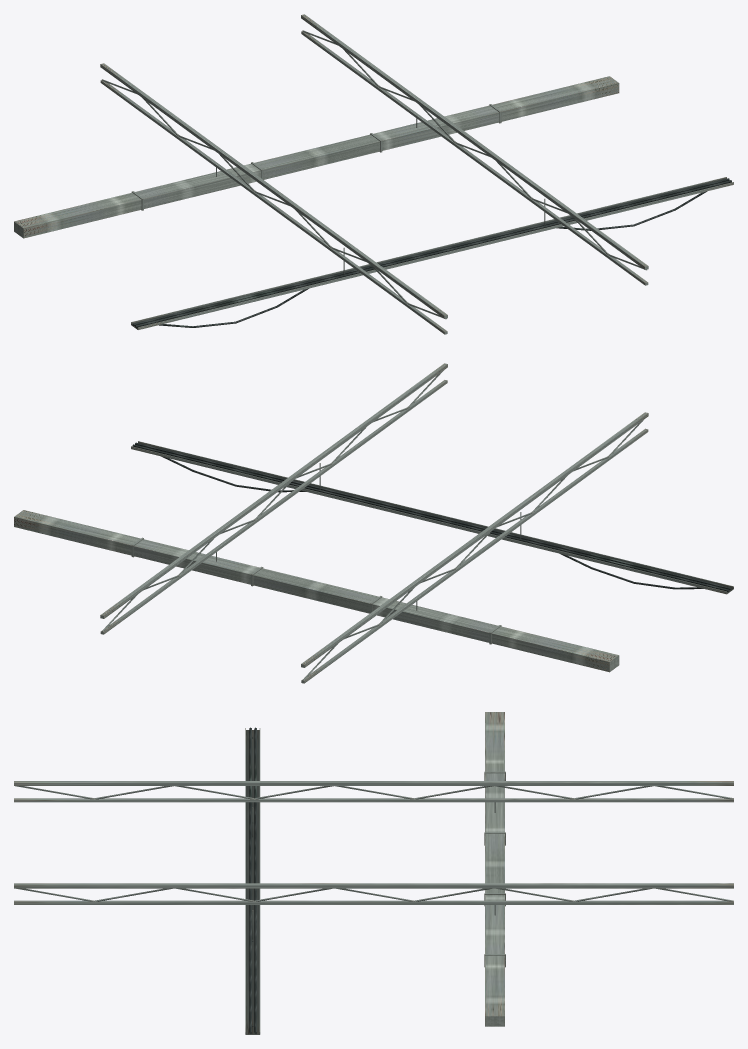
The model's file is ceiling_generator_hall.glb.
3 renders of one model, top to bottom at view 1: azimuth 30°, elevation 25°; view 2: azimuth 150°, elevation 25°; view 3: azimuth 270°, elevation 25°, orthographic. The views are drawn at different scales.
Visible parts, largest first — view 1: Ceiling; view 2: Ceiling; view 3: Ceiling.
Part boxes in pixels (x1,y1,x2,y2): Ceiling: (14,14,733,334); Ceiling: (14,363,733,683); Ceiling: (14,712,733,1034).
Bounding box in the file's own units: 19.8 × 2.08 × 19.81.
1 material, 1 textured.
